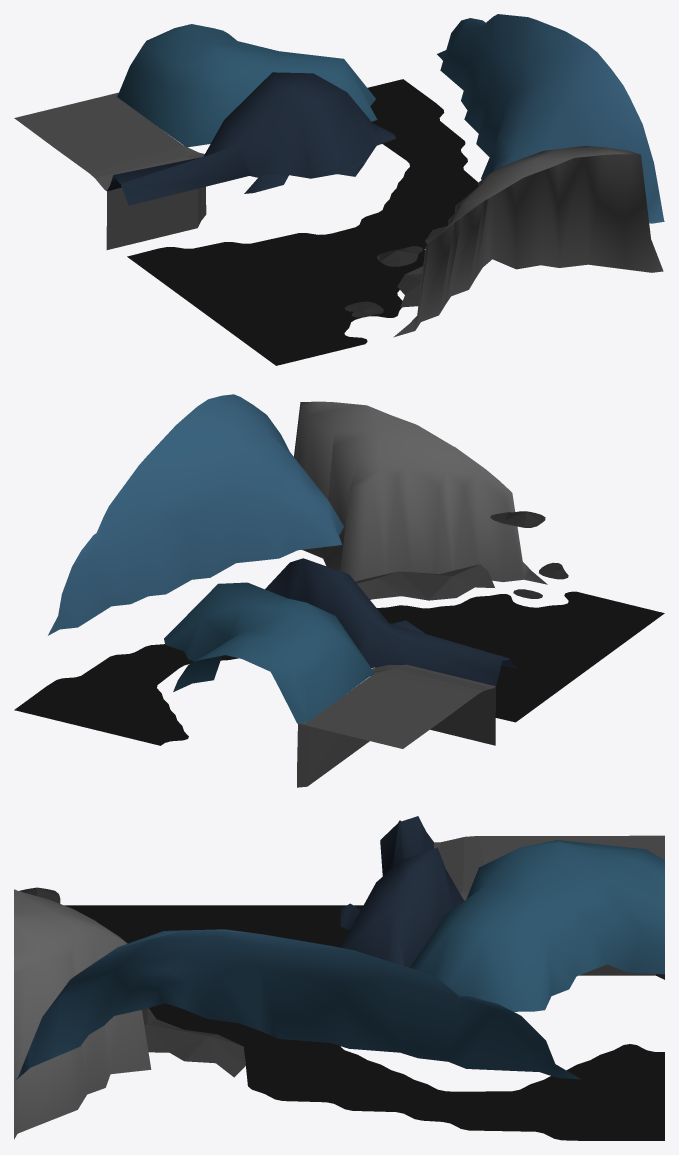
Rendered from newsho-47.glb.
3 renders of one model, top to bottom at view 1: azimuth 30°, elevation 25°; view 2: azimuth 150°, elevation 25°; view 3: azimuth 270°, elevation 25°, orthographic. The views are drawn at different scales.
Visible parts, largest first — view 1: newsho-47; view 2: newsho-47; view 3: newsho-47.
Boxes of the visible parts, bbox=[...] form: newsho-47: bbox=[14, 14, 664, 365]; newsho-47: bbox=[14, 394, 664, 787]; newsho-47: bbox=[14, 816, 664, 1140].
Size of the model in its own units: 2 by 0.8739 by 2.33.
